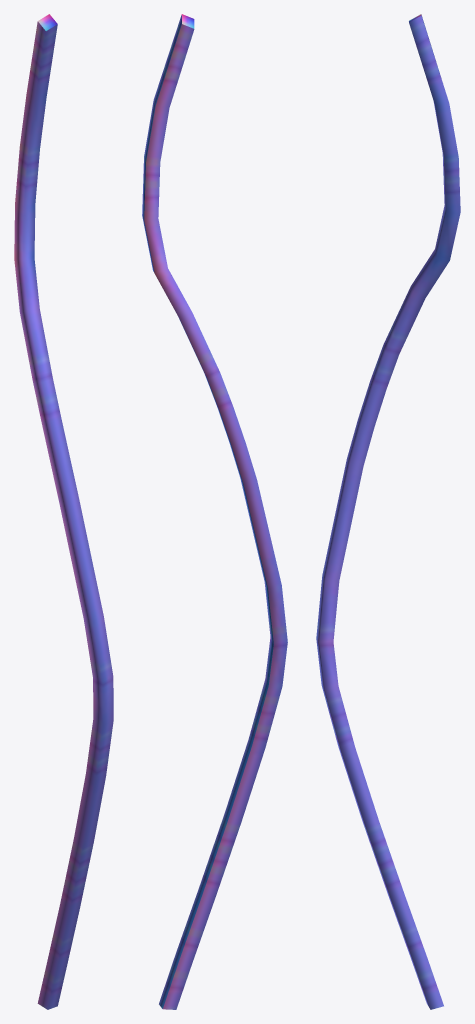
File: ship_debris_05_part_27.glb
3 views of the same model, side by side, from view 1: azimuth 90°, elevation 25°; view 2: azimuth 150°, elevation 25°; view 3: azimuth 330°, elevation 25° (orthographic).
Parts seen in each view (by area): view 1: ship_debris_05_part_27; view 2: ship_debris_05_part_27; view 3: ship_debris_05_part_27.
Boxes of the visible parts, x1=… form: ship_debris_05_part_27: x1=14, y1=14, x2=113, y2=1009; ship_debris_05_part_27: x1=142, y1=14, x2=287, y2=1009; ship_debris_05_part_27: x1=316, y1=14, x2=460, y2=1009.
Bounding box in the file's own units: 0.6344 × 5.6 × 0.5051.
Materials: 1 (1 with a texture image).
